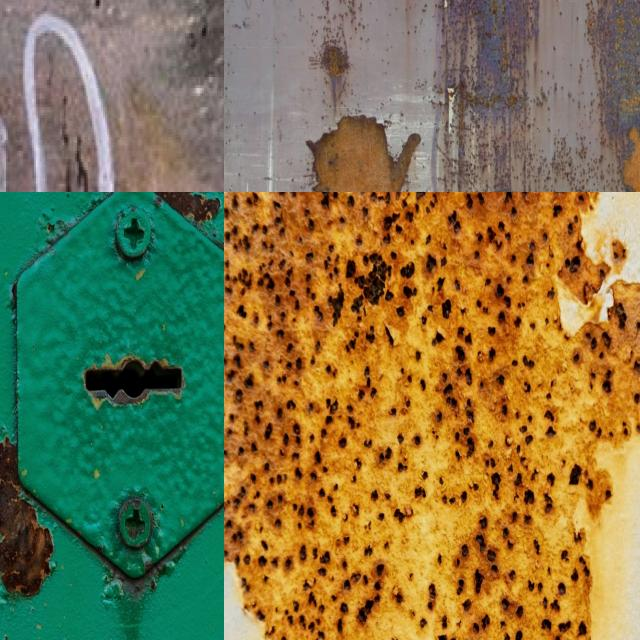Crack: (75, 140, 86, 192)
Pitting Corrosion: (224, 192, 640, 640), (0, 435, 53, 595), (612, 240, 626, 262)
Uniform Corrosion: (307, 115, 420, 192), (154, 192, 221, 225)
